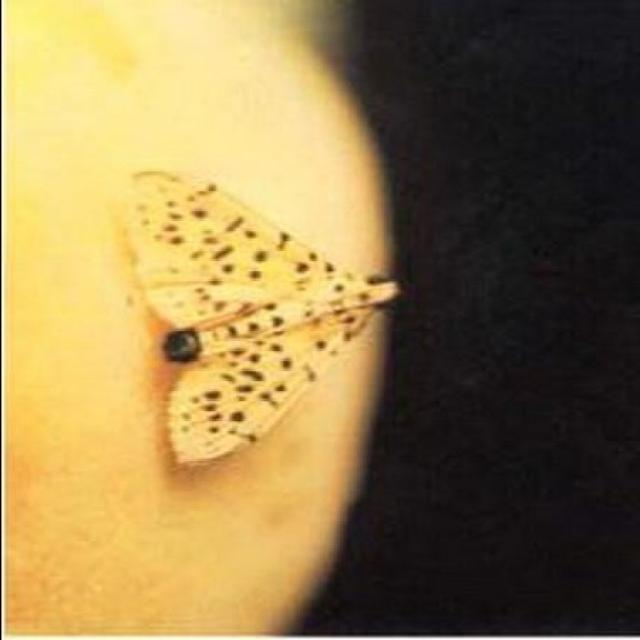peach borer: (129, 165, 409, 473)
